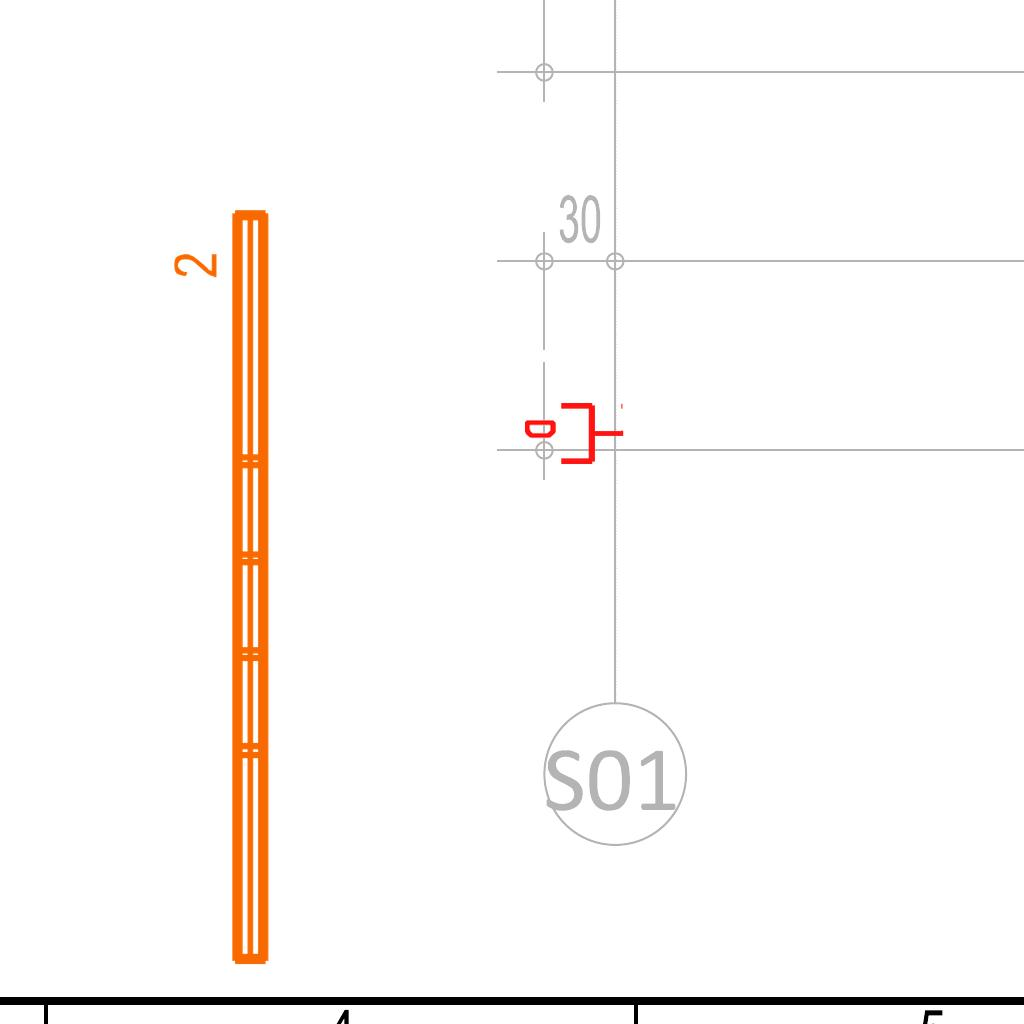Ambulanz_Pendelleuchte_LED: (169, 201, 281, 975)
Datenanschluss_einfach: (525, 399, 625, 468)
